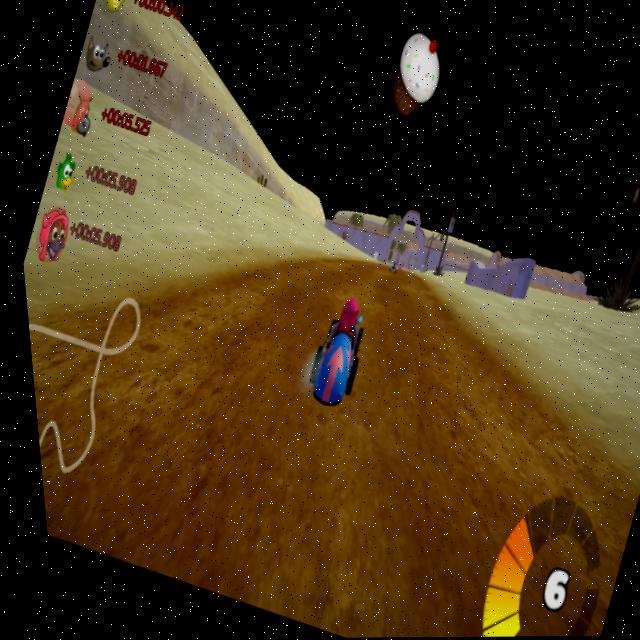enemy_kart: (380, 257, 399, 277)
player_kart: (282, 291, 379, 424)
